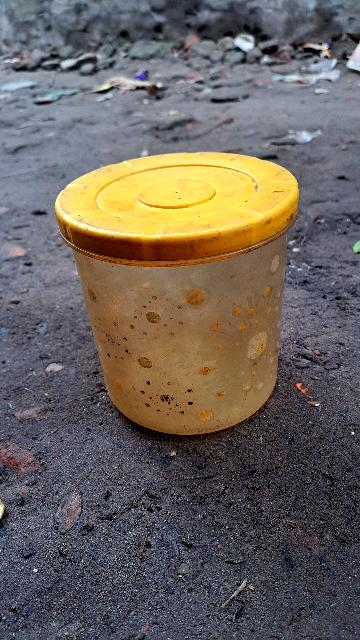hardplastic: (64, 150, 292, 434)
